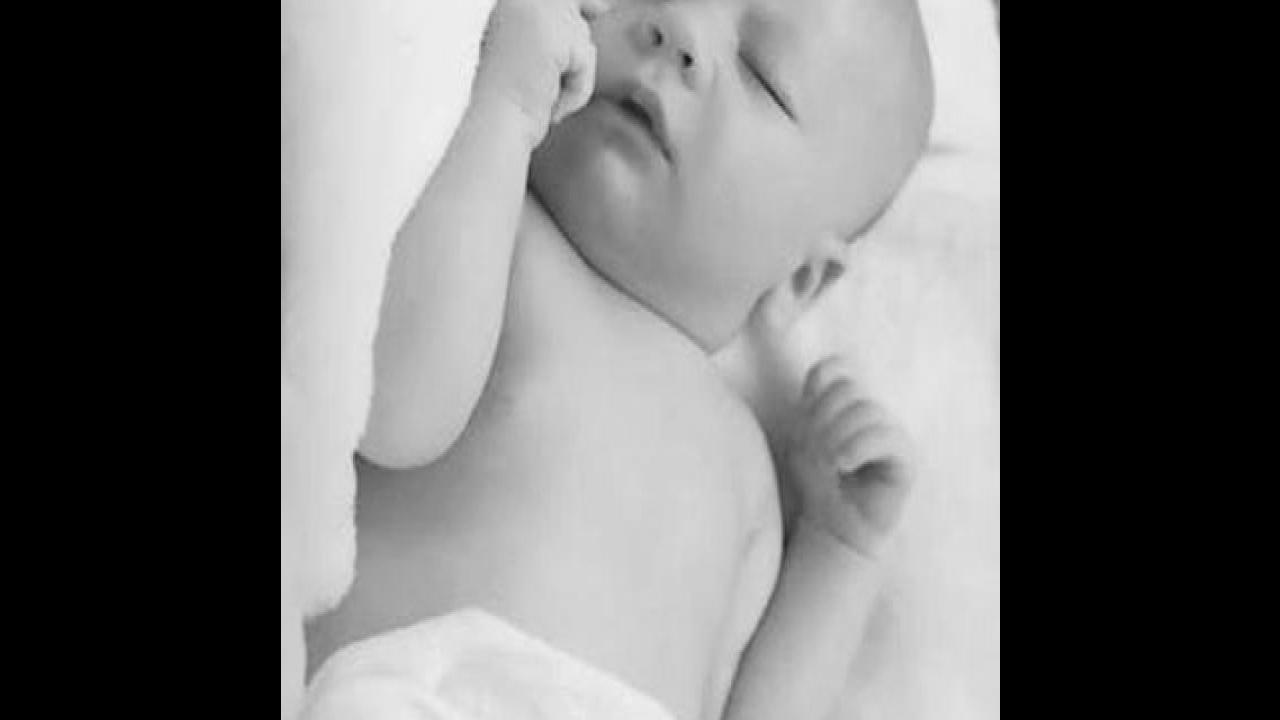hand: (789, 356, 912, 545), (473, 0, 609, 127)
